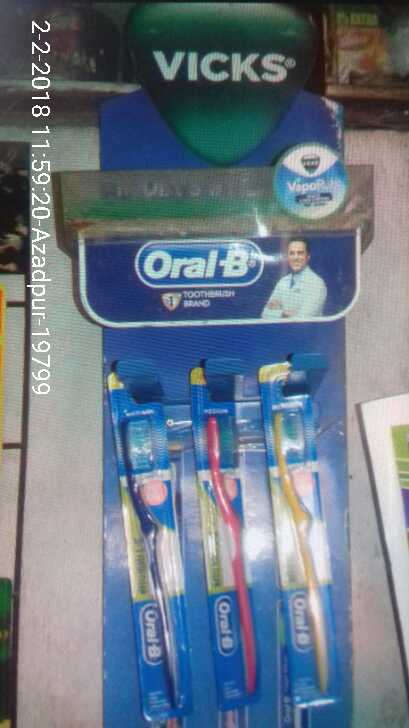oralb: (120, 412, 190, 728), (195, 405, 263, 714), (270, 409, 340, 697)
